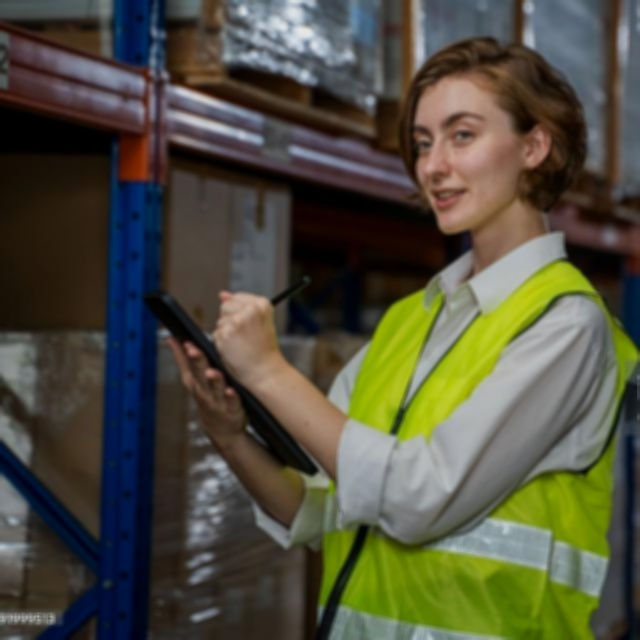Con_Chaleco: (316, 268, 626, 640)
Sin_Casco_Mascarrilla: (396, 36, 588, 240)
